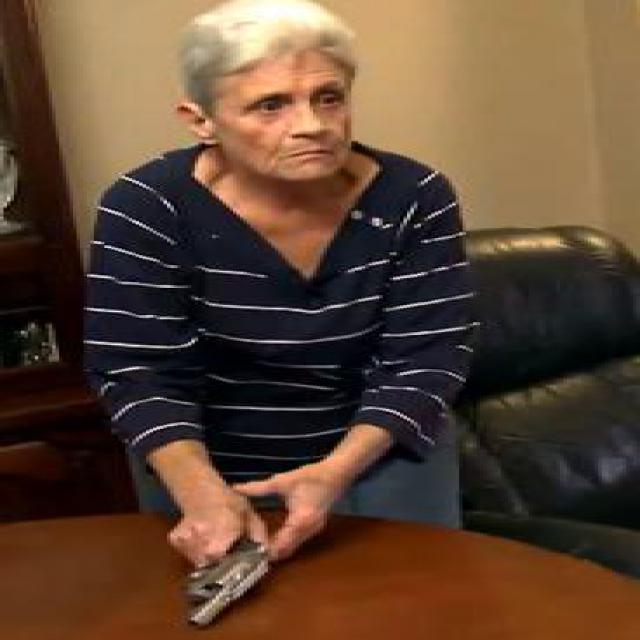Gun: (160, 528, 278, 628)
